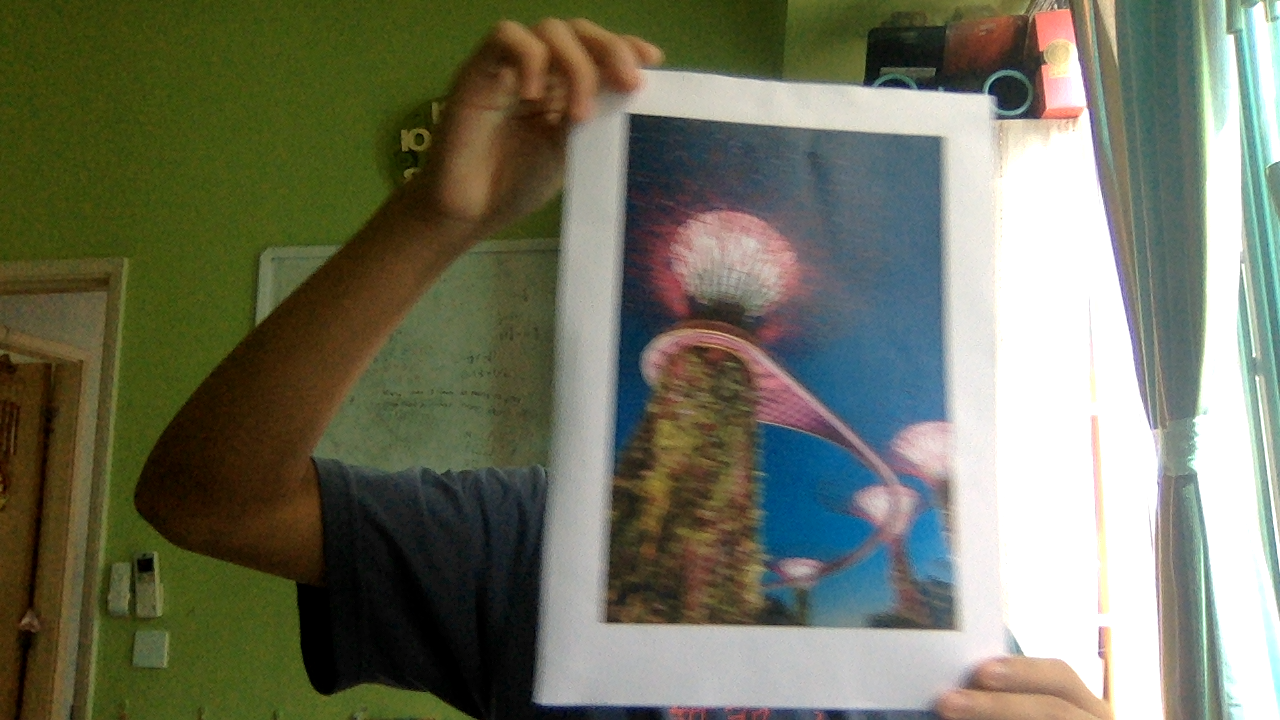GBTB: (597, 106, 966, 640)
